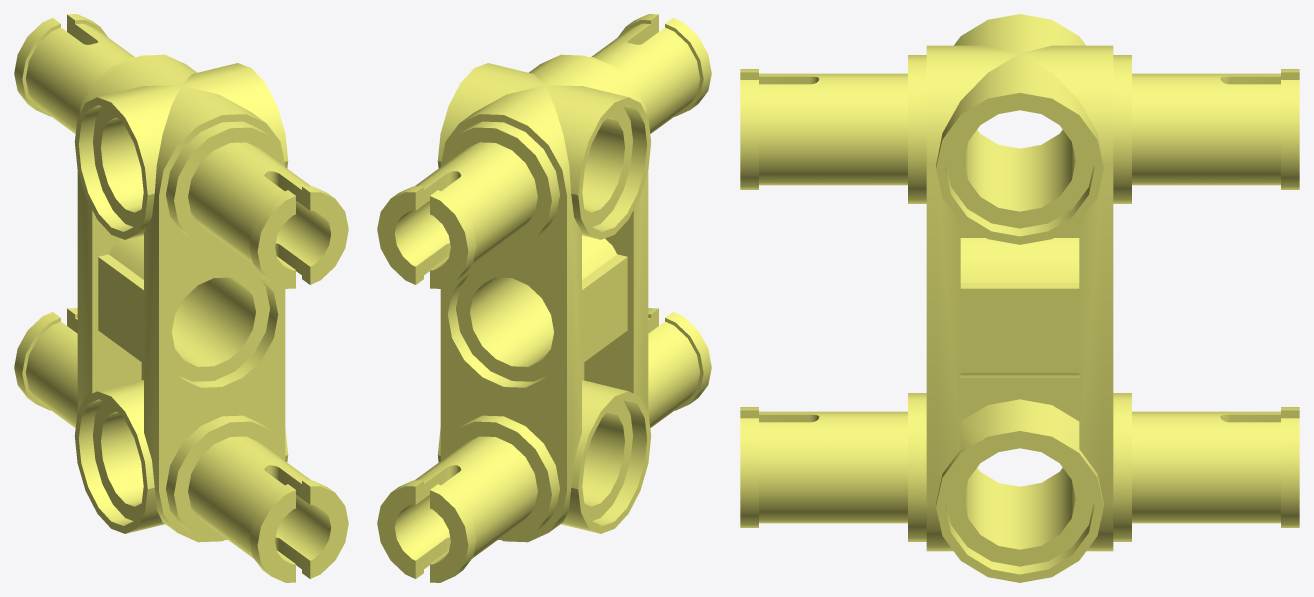
3 renders of one model, left to right at view 1: azimuth 30°, elevation 25°; view 2: azimuth 150°, elevation 25°; view 3: azimuth 270°, elevation 25°, orthographic. The views are drawn at different scales.
Visible parts, largest first — view 1: 48989.dat; view 2: 48989.dat; view 3: 48989.dat.
Part boxes in pixels (left/top/right/bottom): 48989.dat: left=14, top=14, right=348, bottom=582; 48989.dat: left=377, top=14, right=711, bottom=582; 48989.dat: left=740, top=14, right=1299, bottom=582.
Size of the model in its own units: 0.008 by 0.0232 by 0.024.
